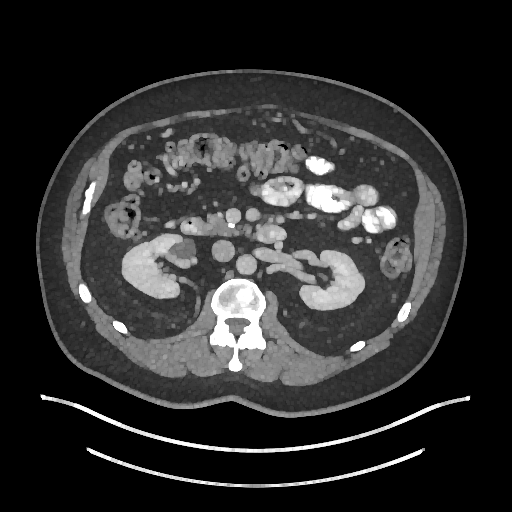Lesion: (163, 235, 199, 263)
